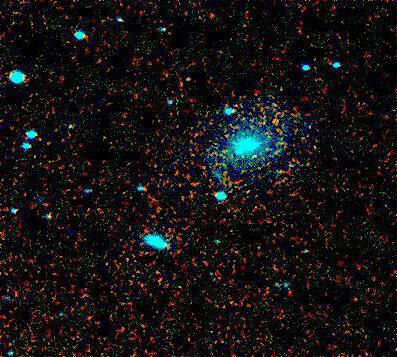star: (260, 108, 290, 138)
